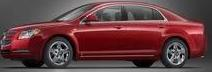front_view: (1, 22, 43, 62)
headlight: (16, 26, 41, 43)
side_glass: (81, 5, 170, 25)
